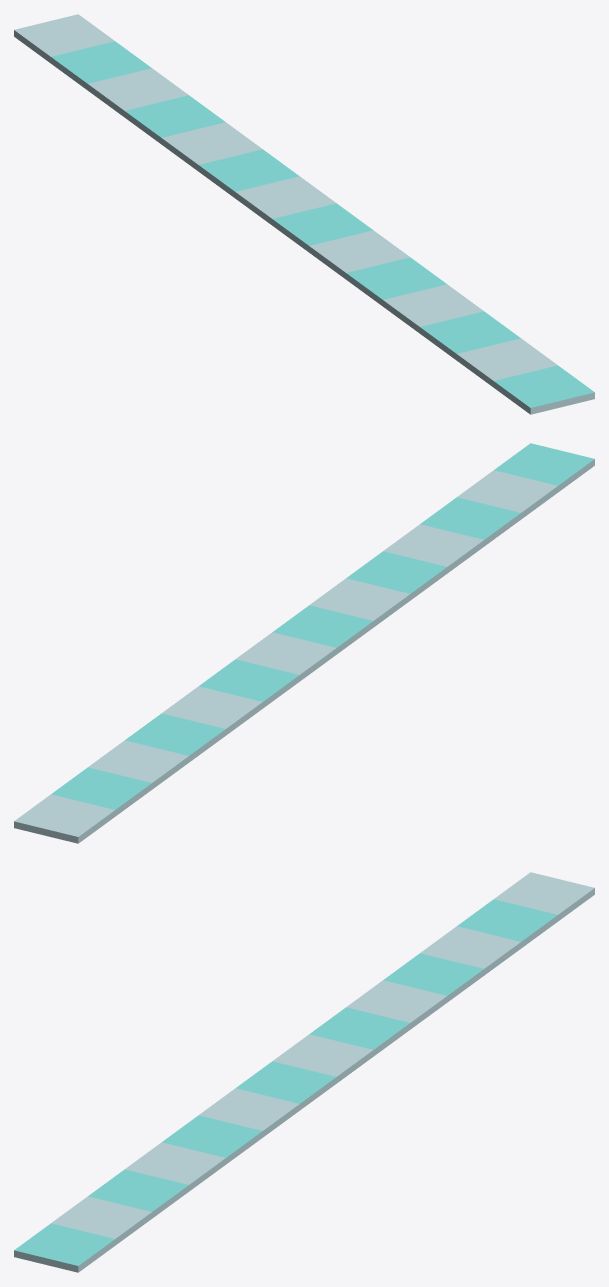
The picture shows the model from 3 angles, top to bottom: view 1: azimuth 30°, elevation 25°; view 2: azimuth 150°, elevation 25°; view 3: azimuth 330°, elevation 25°; orthographic projection.
Parts seen in each view (by area): view 1: Platform; view 2: Platform; view 3: Platform.
Boxes of the visible parts, box(x1,y1,x2,y2) form: Platform: box(14, 14, 594, 414); Platform: box(14, 443, 594, 843); Platform: box(14, 872, 594, 1272).
Size of the model in its own units: 102 by 10.26 by 1424.
